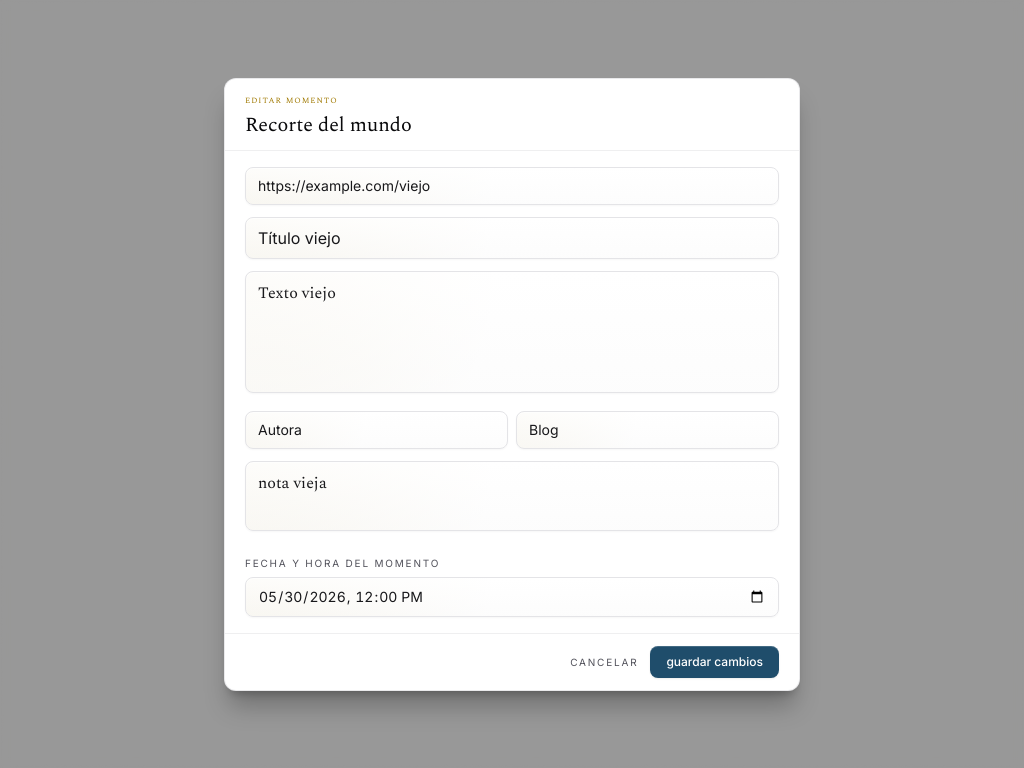
Scenario: <RecorteEditModal /> › muestra error y no cierra si la API rechaza el guardado
Click the button "guardar cambios" at (715, 662), box [650,646,779,678]
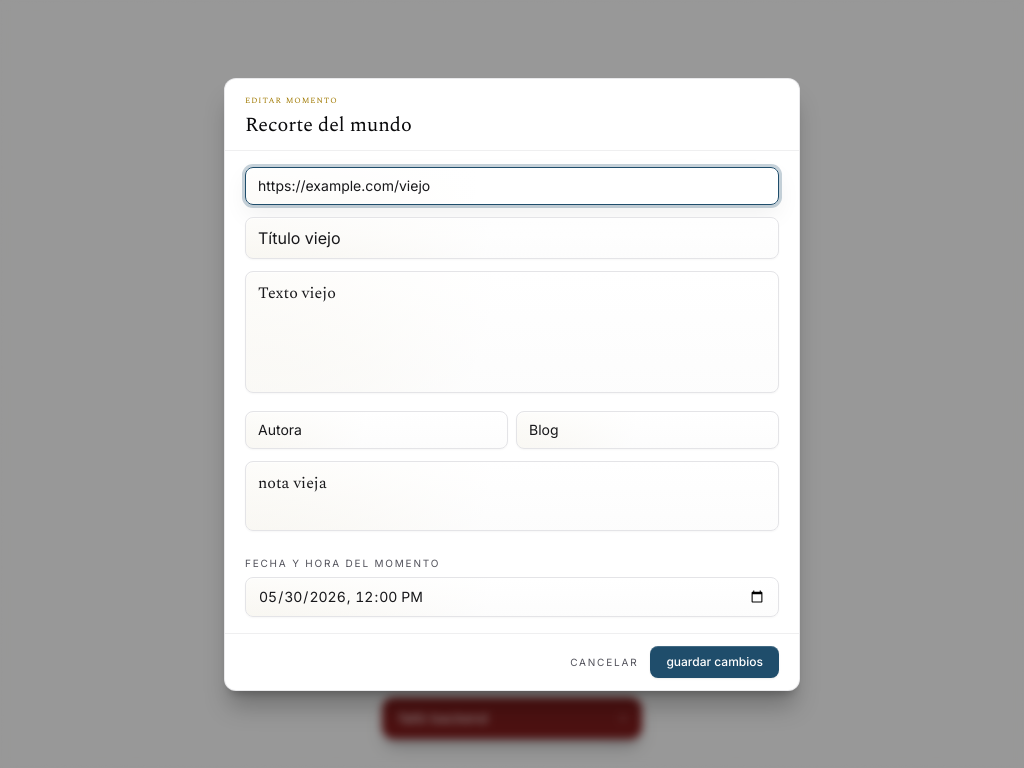
Now the text "falló backend" is shown, box [399,709,488,726]
